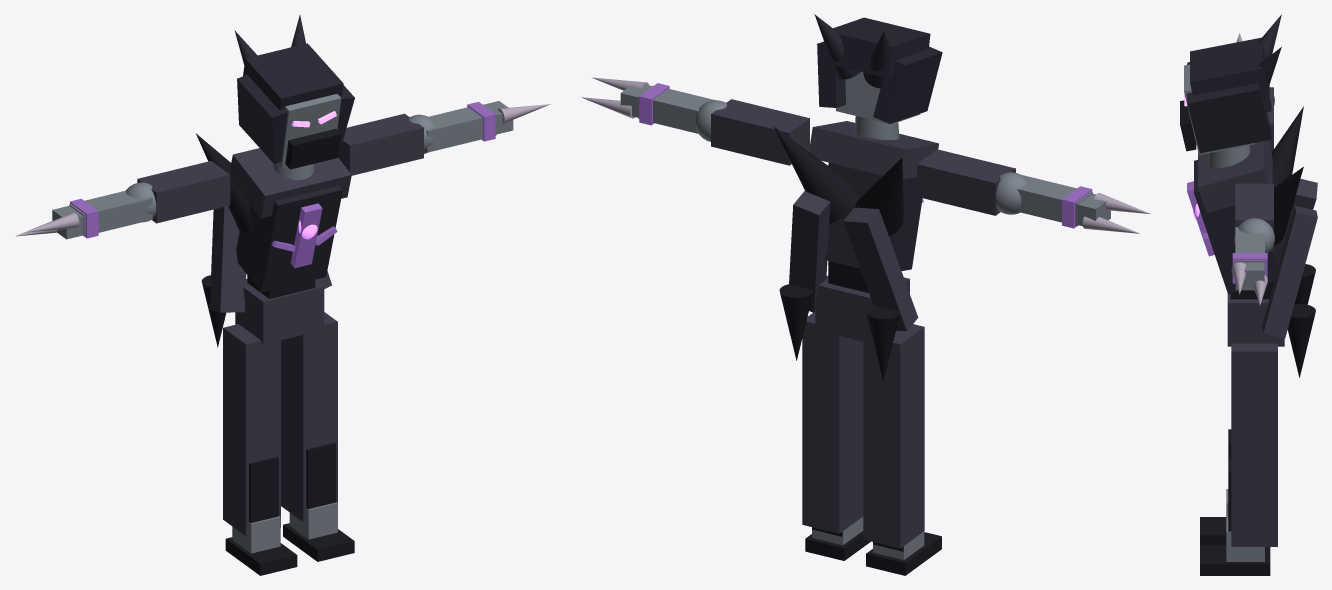
Rendered from FSA_ENEMY_A003_ShadowZombie.glb.
3 renders of one model, left to right at view 1: azimuth 30°, elevation 25°; view 2: azimuth 150°, elevation 25°; view 3: azimuth 270°, elevation 25°, orthographic. The views are drawn at different scales.
Parts seen in each view (by area): view 1: LegR, LegL, Ribcage, HoodCrown, Collar, Pelvis, UpperArmL, UpperArmR, MantleR, HoodR, ForearmR, ShinL (+10 smaller); view 2: LegR, LegL, UpperArmL, MantleR, Collar, UpperArmR, Ribcage, MantleL, HoodCrown, HoodR, Pelvis, BackBladeL (+14 smaller); view 3: LegL, HoodL, HoodCrown, MantleL, Collar, Ribcage, Pelvis, UpperArmL, FootL, BackBladeR, MantleTipL, BackBladeL (+19 smaller).
Boxes of the visible parts, x1,y1,x2,y2 form: LegR: (223,324,280,536); LegL: (281,312,337,522); Ribcage: (236,185,342,292); HoodCrown: (243,43,343,110); Collar: (229,148,351,218); Pelvis: (235,279,324,344); UpperArmL: (338,113,423,175); UpperArmR: (137,161,230,223); MantleR: (209,206,246,312); HoodR: (237,74,287,164); ForearmR: (69,190,152,236); ShinL: (306,442,336,509); LegR: (863,324,924,548); LegL: (802,312,863,533); UpperArmL: (711,99,809,165); MantleR: (843,207,918,331); Collar: (809,121,938,179); UpperArmR: (917,149,1015,215); Ribcage: (824,162,922,270); MantleL: (789,191,830,312); HoodCrown: (822,17,930,78); HoodR: (873,46,942,123); Pelvis: (815,275,909,344); BackBladeL: (773,126,858,223); LegL: (1231,343,1277,546); HoodL: (1186,83,1271,153); HoodCrown: (1190,37,1269,97); MantleL: (1262,205,1317,338); Collar: (1198,140,1272,213); Ribcage: (1194,160,1282,294); Pelvis: (1227,293,1284,346); UpperArmL: (1235,183,1273,251); FootL: (1200,545,1270,575); BackBladeR: (1272,106,1303,187); MantleTipL: (1287,304,1315,377); BackBladeL: (1274,166,1303,245).
Bounding box in the file's own units: 2.07 × 1.93 × 0.4602.
